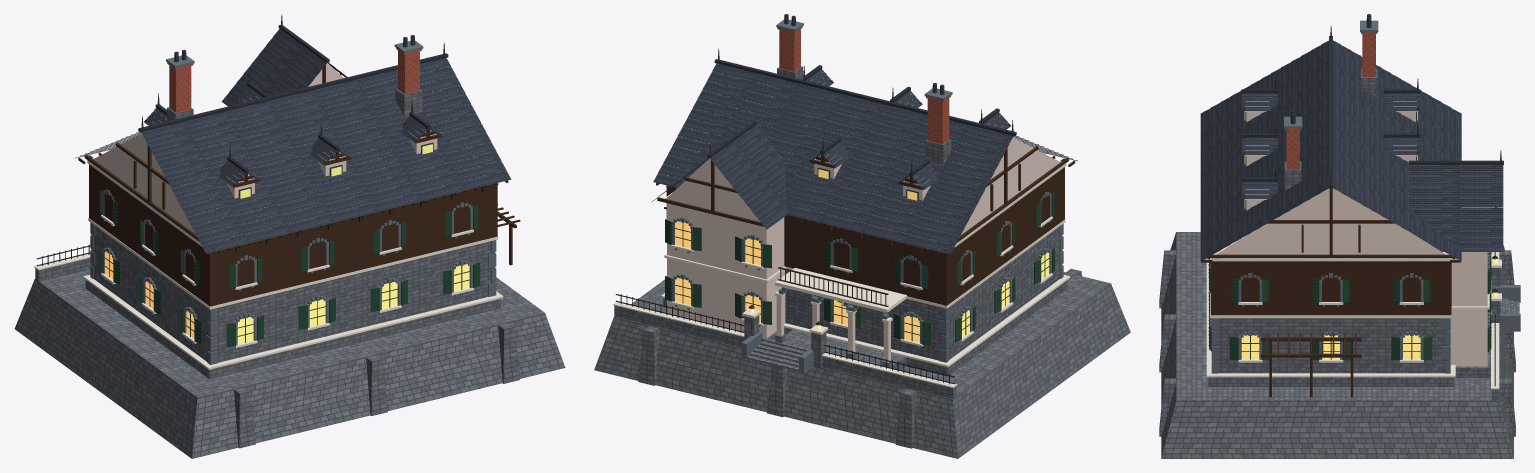
Rendered from fv_hht_09_hoang_hoa_tham_14_savoy_stone_timber_chalet.glb.
3 views of the same model, side by side, from view 1: azimuth 30°, elevation 25°; view 2: azimuth 150°, elevation 25°; view 3: azimuth 270°, elevation 25° (orthographic). The views are drawn at different scales.
Visible parts, largest first — view 1: Foundation_Skirt_Neg3p5m, Normandy_Brittany_Layered_Roof, Exposed_Timber_Trusses_And_Rafters, Molded_Cornices_And_Sills, PineGreen_Louvered_Shutters, Stone_Quoins_And_Arches, Villa_Stucco_Walls, Roof_Ridges_Caps_And_Finials, Warm_Night_Windows_20h00_Blend, Brick_Chimney_Stacks; view 2: Foundation_Skirt_Neg3p5m, Normandy_Brittany_Layered_Roof, Exposed_Timber_Trusses_And_Rafters, Villa_Stucco_Walls, Molded_Cornices_And_Sills, Stone_Quoins_And_Arches, PineGreen_Louvered_Shutters, Roof_Ridges_Caps_And_Finials, Warm_Night_Windows_20h00_Blend, Brick_Chimney_Stacks, Wrought_Iron_Balustrades_And_Gate; view 3: Foundation_Skirt_Neg3p5m, Normandy_Brittany_Layered_Roof, Exposed_Timber_Trusses_And_Rafters, Villa_Stucco_Walls, Molded_Cornices_And_Sills, Stone_Quoins_And_Arches, PineGreen_Louvered_Shutters, Roof_Ridges_Caps_And_Finials, Warm_Night_Windows_20h00_Blend, Brick_Chimney_Stacks.
Boxes of the visible parts, box(x1,y1,x2,y2) form: Foundation_Skirt_Neg3p5m: box(14, 88, 565, 458); Normandy_Brittany_Layered_Roof: box(141, 29, 511, 253); Exposed_Timber_Trusses_And_Rafters: box(78, 65, 520, 306); Molded_Cornices_And_Sills: box(34, 96, 503, 369); PineGreen_Louvered_Shutters: box(99, 142, 480, 346); Stone_Quoins_And_Arches: box(90, 40, 496, 364); Villa_Stucco_Walls: box(93, 63, 437, 234); Roof_Ridges_Caps_And_Finials: box(75, 14, 448, 181); Warm_Night_Windows_20h00_Blend: box(105, 144, 469, 344); Brick_Chimney_Stacks: box(167, 48, 421, 112); Foundation_Skirt_Neg3p5m: box(594, 66, 1130, 458); Normandy_Brittany_Layered_Roof: box(653, 14, 1013, 254); Exposed_Timber_Trusses_And_Rafters: box(656, 69, 1075, 306); Villa_Stucco_Walls: box(666, 94, 1060, 362); Molded_Cornices_And_Sills: box(613, 79, 1070, 388); Stone_Quoins_And_Arches: box(672, 19, 1063, 373); PineGreen_Louvered_Shutters: box(665, 167, 1054, 345); Roof_Ridges_Caps_And_Finials: box(652, 48, 1077, 201); Warm_Night_Windows_20h00_Blend: box(675, 169, 1049, 342); Brick_Chimney_Stacks: box(777, 26, 951, 144); Wrought_Iron_Balustrades_And_Gate: box(615, 294, 954, 384); Foundation_Skirt_Neg3p5m: box(1159, 69, 1519, 458); Normandy_Brittany_Layered_Roof: box(1200, 14, 1503, 261); Exposed_Timber_Trusses_And_Rafters: box(1201, 93, 1496, 397); Villa_Stucco_Walls: box(1216, 111, 1487, 366); Molded_Cornices_And_Sills: box(1206, 101, 1501, 389); Stone_Quoins_And_Arches: box(1209, 20, 1520, 373); PineGreen_Louvered_Shutters: box(1208, 111, 1491, 360); Roof_Ridges_Caps_And_Finials: box(1241, 25, 1503, 188); Warm_Night_Windows_20h00_Blend: box(1241, 111, 1497, 359); Brick_Chimney_Stacks: box(1285, 32, 1377, 169).
Size of the model in its own units: 26.52 by 20.5 by 21.93.
12 materials, 3 textured.
